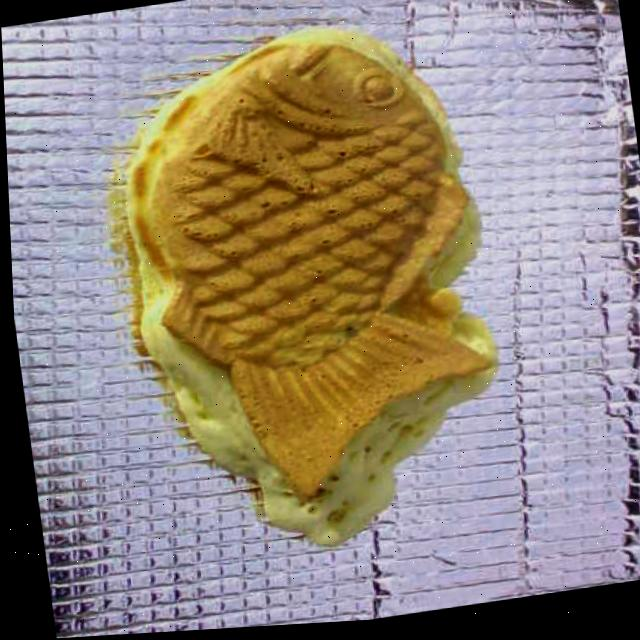熟制海鲜: (71, 0, 525, 584)
